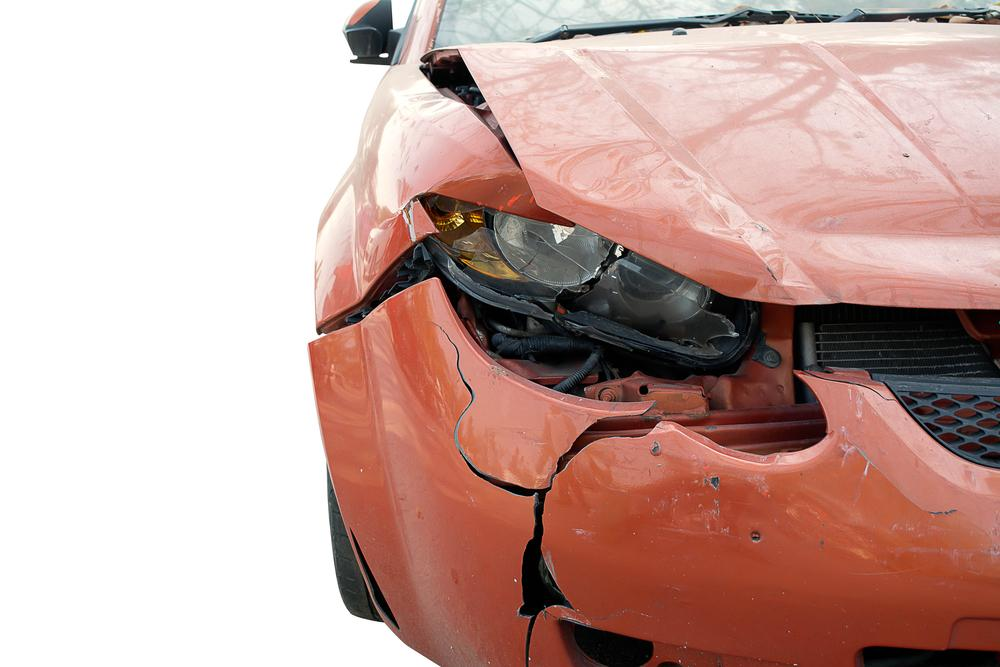crack: (423, 320, 662, 667), (799, 370, 902, 404)
dent: (564, 145, 1000, 295)
lamp broken: (429, 195, 757, 360)
